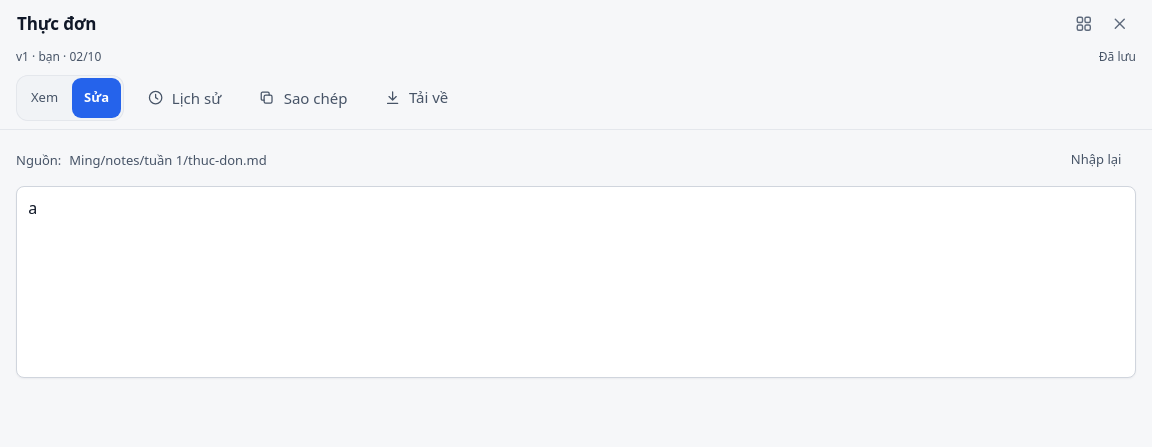
reading a canvas's file again › shows the version the file became on the reply alone, when the stream says nothing of it
The width and height of the screenshot is (1152, 447).
What coordinates should you click on to do the following:
click the button "Nhập lại"
I would click on:
 (1096, 160)
Its box is x1=1056 y1=142 x2=1136 y2=178.
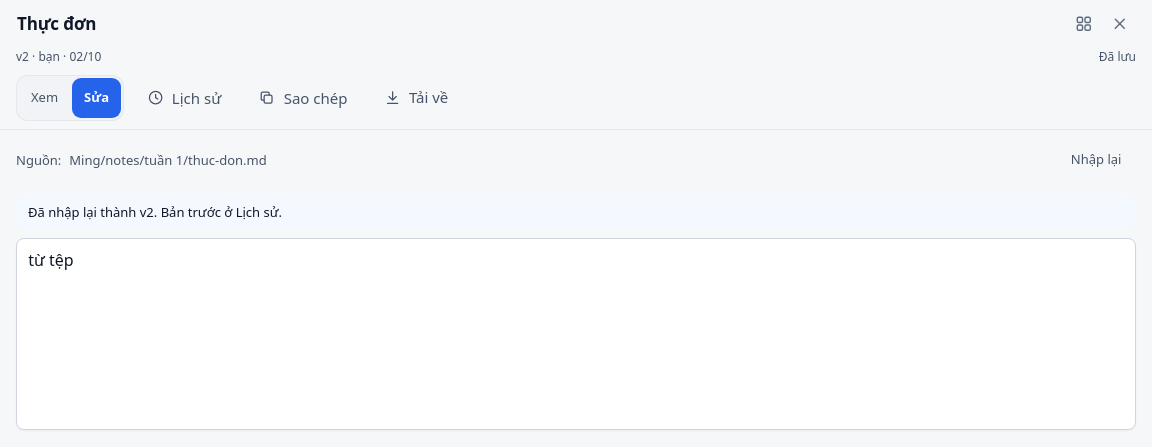
Expected: the text box named "Nội dung canvas" holds "từ tệp", x1=16 y1=238 x2=1136 y2=430
Expected: the text with class "canvas-version" shows "v2 · bạn ·", x1=16 y1=48 x2=101 y2=65
